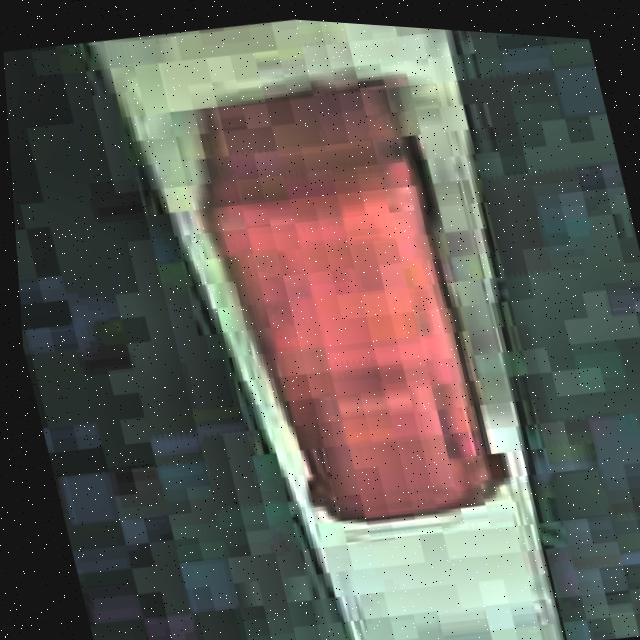bus: (167, 56, 526, 554)
